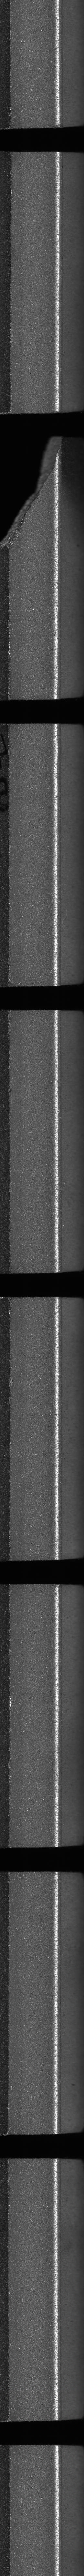Chip: (0, 432, 66, 559)
